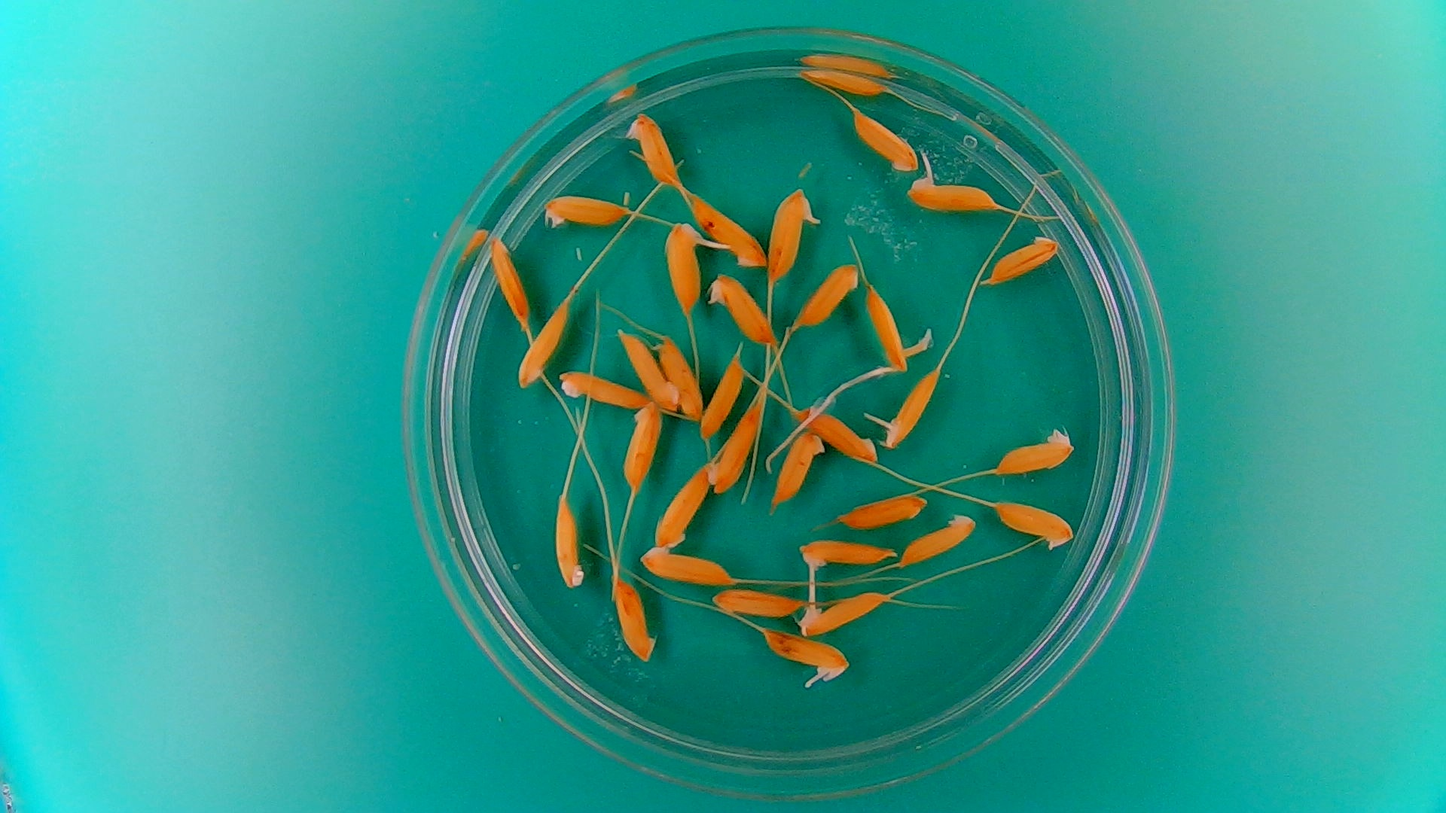no: (689, 194, 768, 266), (614, 328, 681, 411), (514, 294, 573, 388), (705, 400, 762, 495), (706, 271, 778, 346), (653, 461, 711, 548), (795, 406, 877, 466), (898, 511, 978, 569), (794, 260, 862, 327), (991, 498, 1075, 552), (769, 429, 826, 507), (853, 111, 922, 173), (625, 111, 682, 186), (487, 234, 531, 328), (558, 367, 654, 410), (701, 349, 746, 440), (657, 333, 703, 420), (992, 428, 1075, 476), (988, 230, 1062, 282), (638, 546, 733, 586), (609, 580, 655, 661), (623, 400, 663, 492), (834, 492, 928, 531), (539, 190, 630, 230), (551, 496, 584, 592), (797, 65, 889, 99), (712, 585, 806, 618)
yes: (884, 368, 944, 448), (865, 273, 911, 373), (767, 187, 815, 282), (798, 591, 888, 638), (762, 631, 850, 678), (909, 174, 1003, 215), (664, 223, 705, 314), (795, 535, 891, 568)
